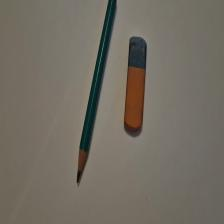eraser: (125, 37, 148, 133)
pencil: (78, 1, 118, 184)
